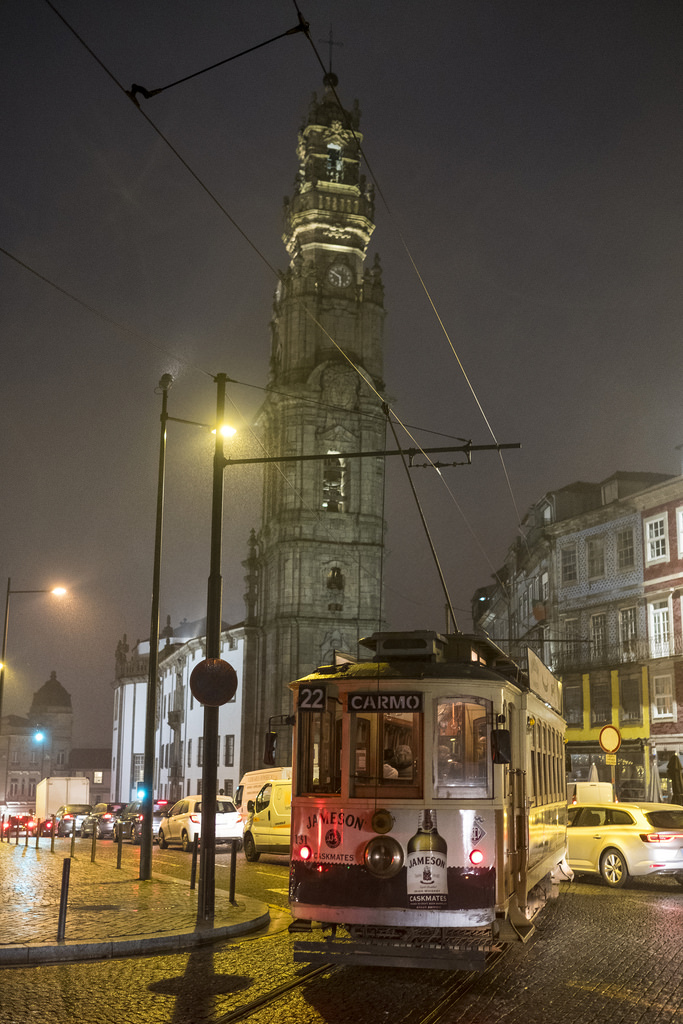clerigos: (243, 27, 388, 815)
